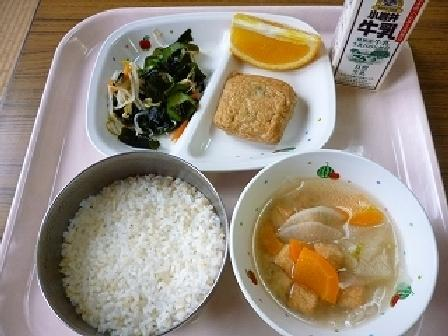Bread: (205, 74, 307, 152)
Citrus: (223, 13, 318, 74)
Milk: (332, 0, 433, 98)
Rice: (40, 154, 230, 331)
Salad: (102, 32, 210, 146)
Soups: (238, 158, 419, 328)
